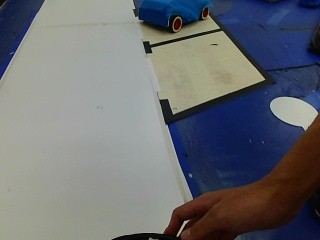car: (136, 0, 211, 35)
